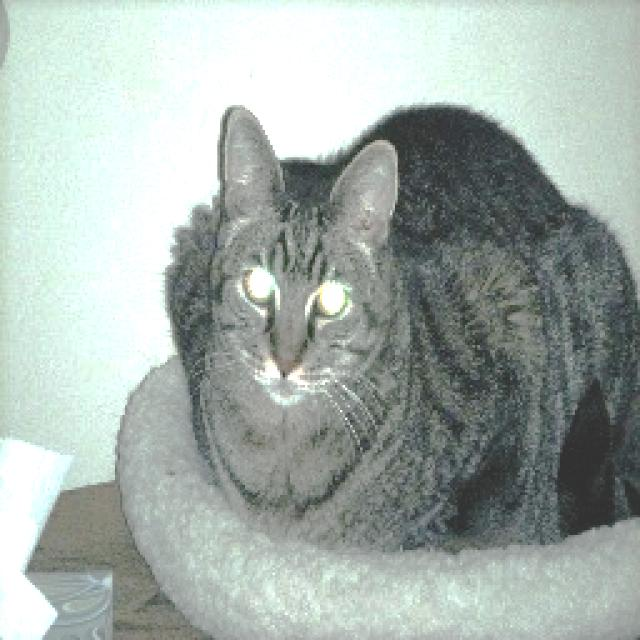cat: (129, 61, 640, 585)
